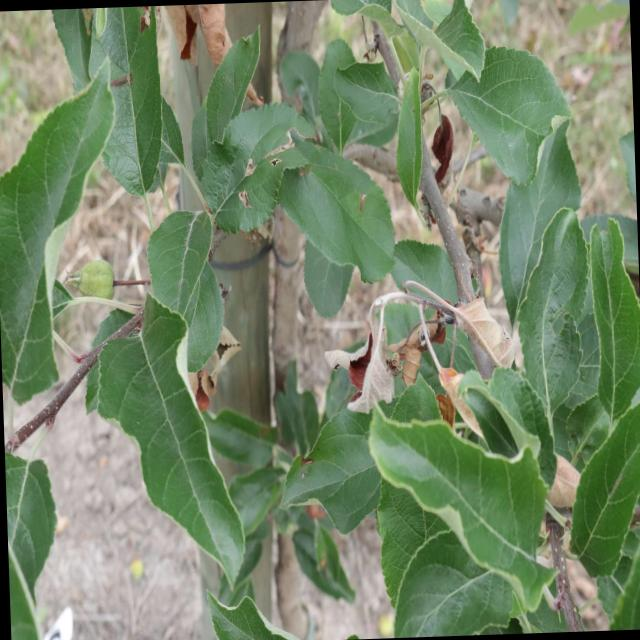-FireBlight-: (330, 272, 523, 444), (165, 337, 238, 416), (156, 2, 238, 62), (422, 86, 458, 206)
